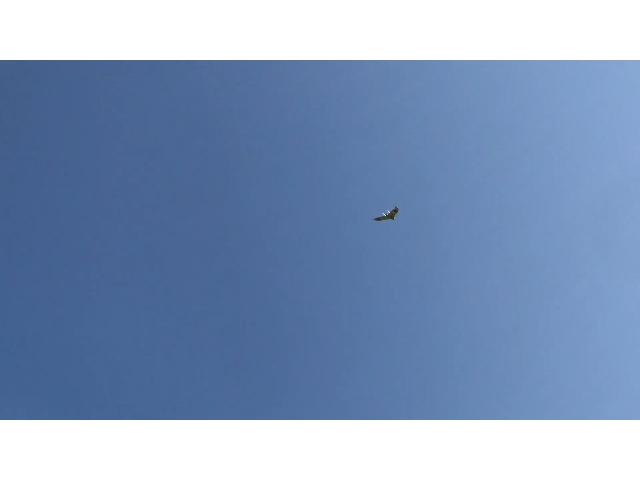Anti-Drone: (364, 195, 416, 235)
